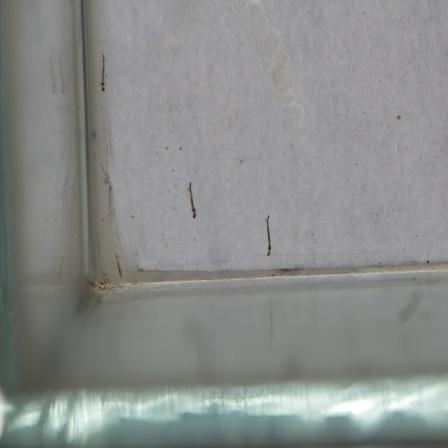Jentik-Nyamuk: (260, 212, 278, 257), (184, 178, 198, 223), (97, 51, 110, 95)
